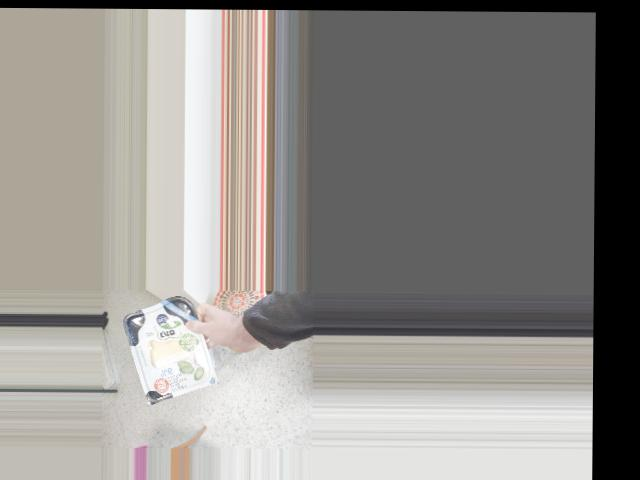cheese: (135, 305, 203, 392)
